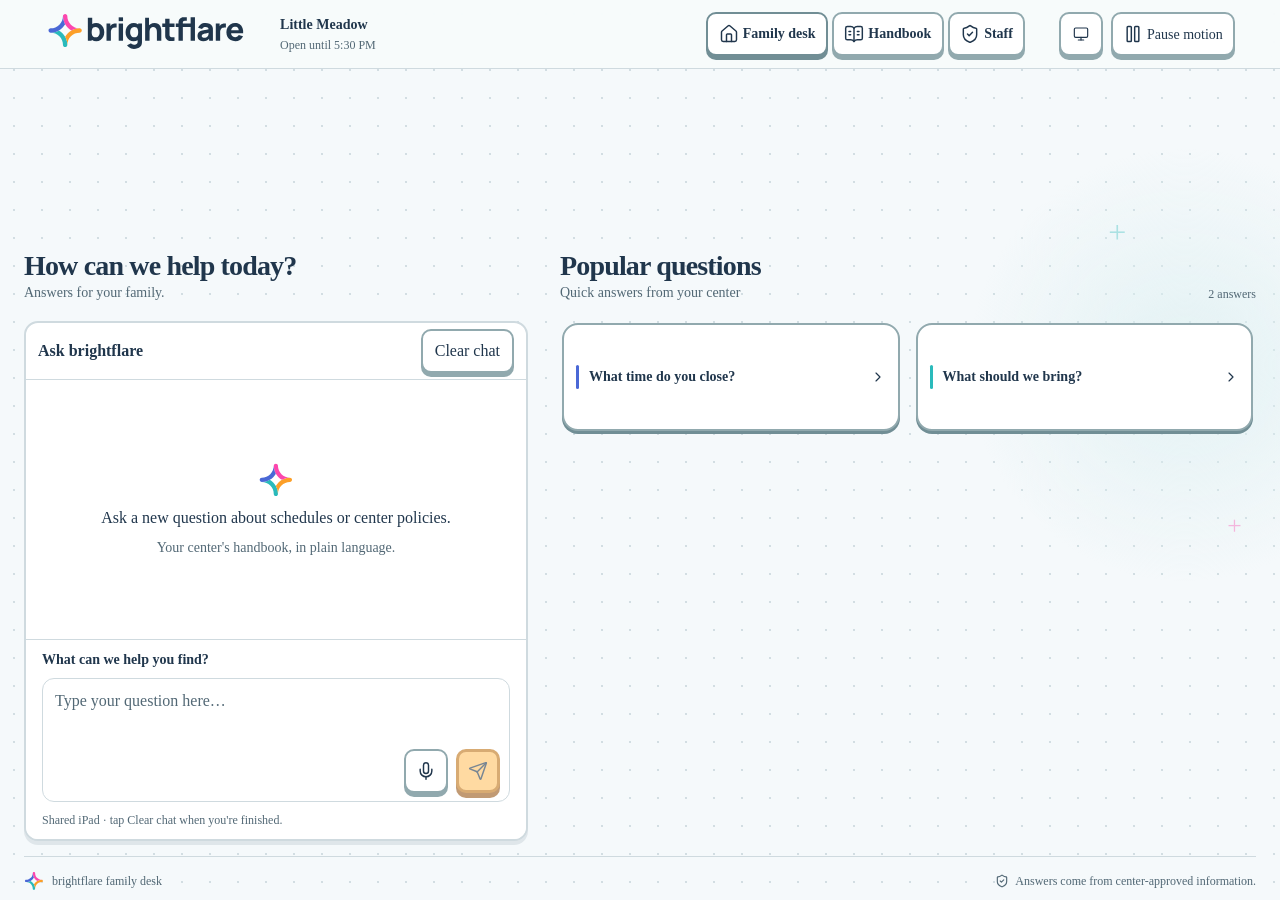
Test: parent front desk › adds speech transcripts to the question without submitting them
Expected: the button "What time do you close?" is shown, top-left (564, 325), bottom-right (898, 429)
Type "How do I" into the text box labelled "What can we help you find?" at point(276, 740), box top-left (42, 678), bottom-right (510, 802)
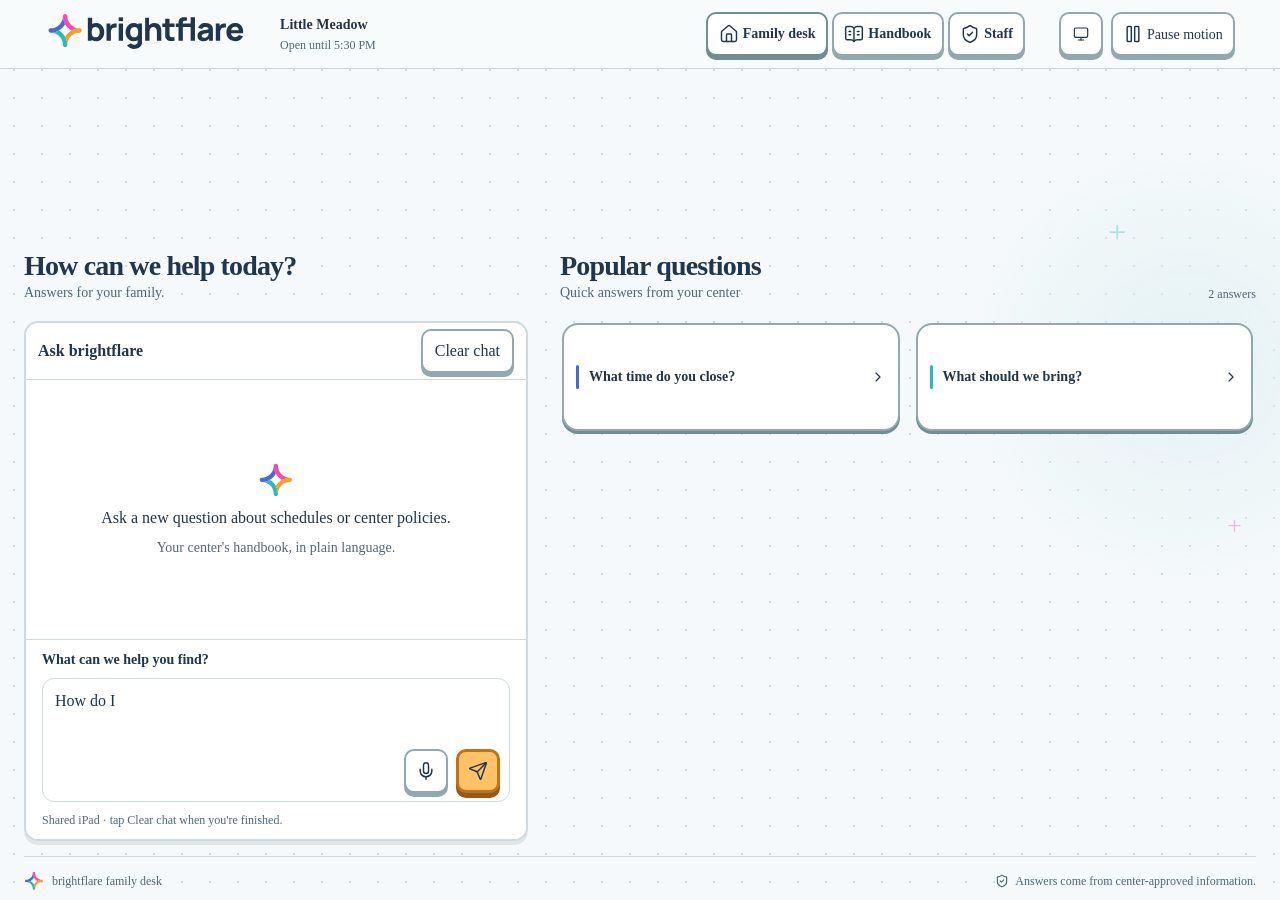
Click the button named "Start voice input" at point(426, 771), box top-left (404, 749), bottom-right (448, 793)
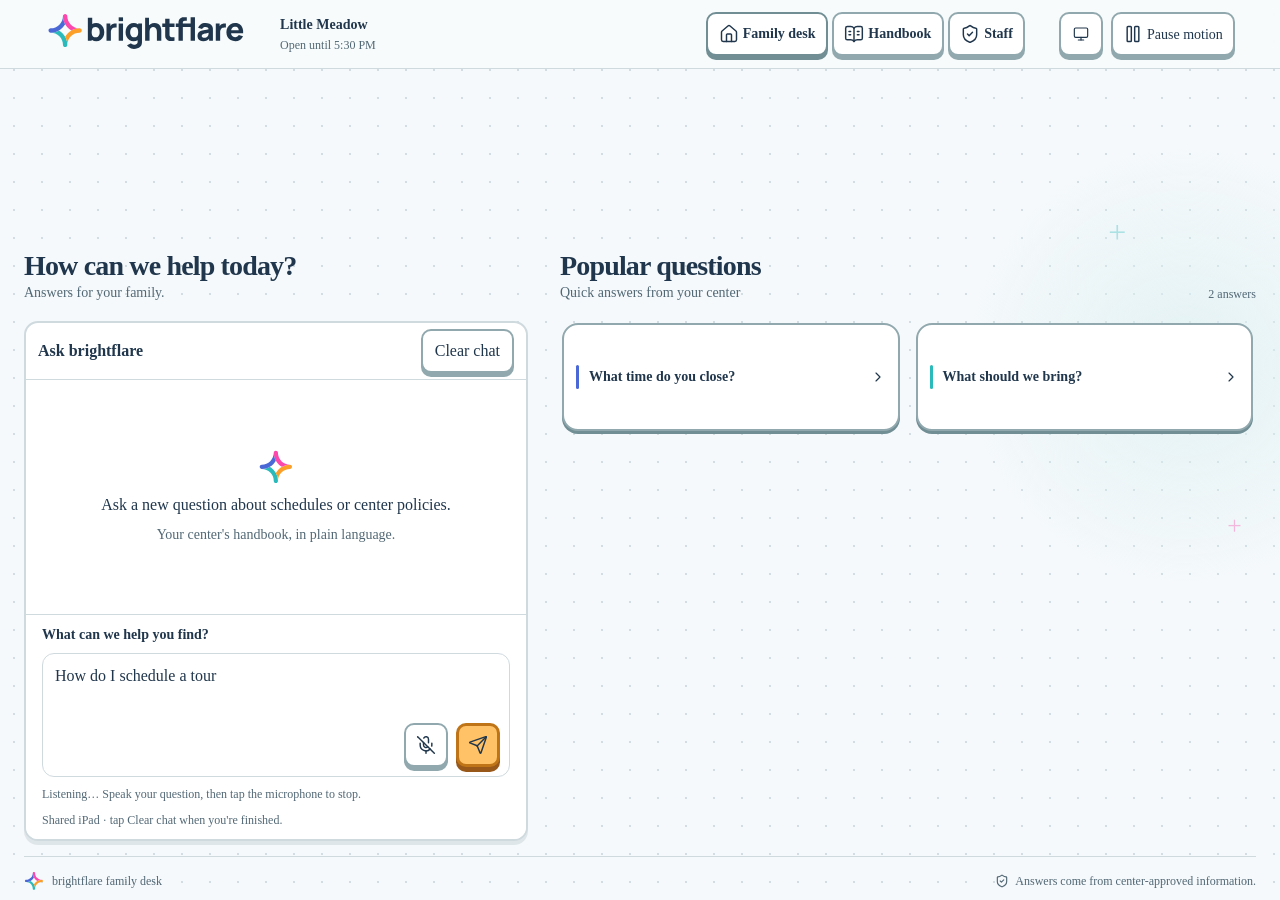
Expected: the text box labelled "What can we help you find?" holds "How do I schedule a tour", top-left (42, 653), bottom-right (510, 777)
Click the button named "Stop voice input" at point(426, 745), box top-left (404, 723), bottom-right (448, 767)
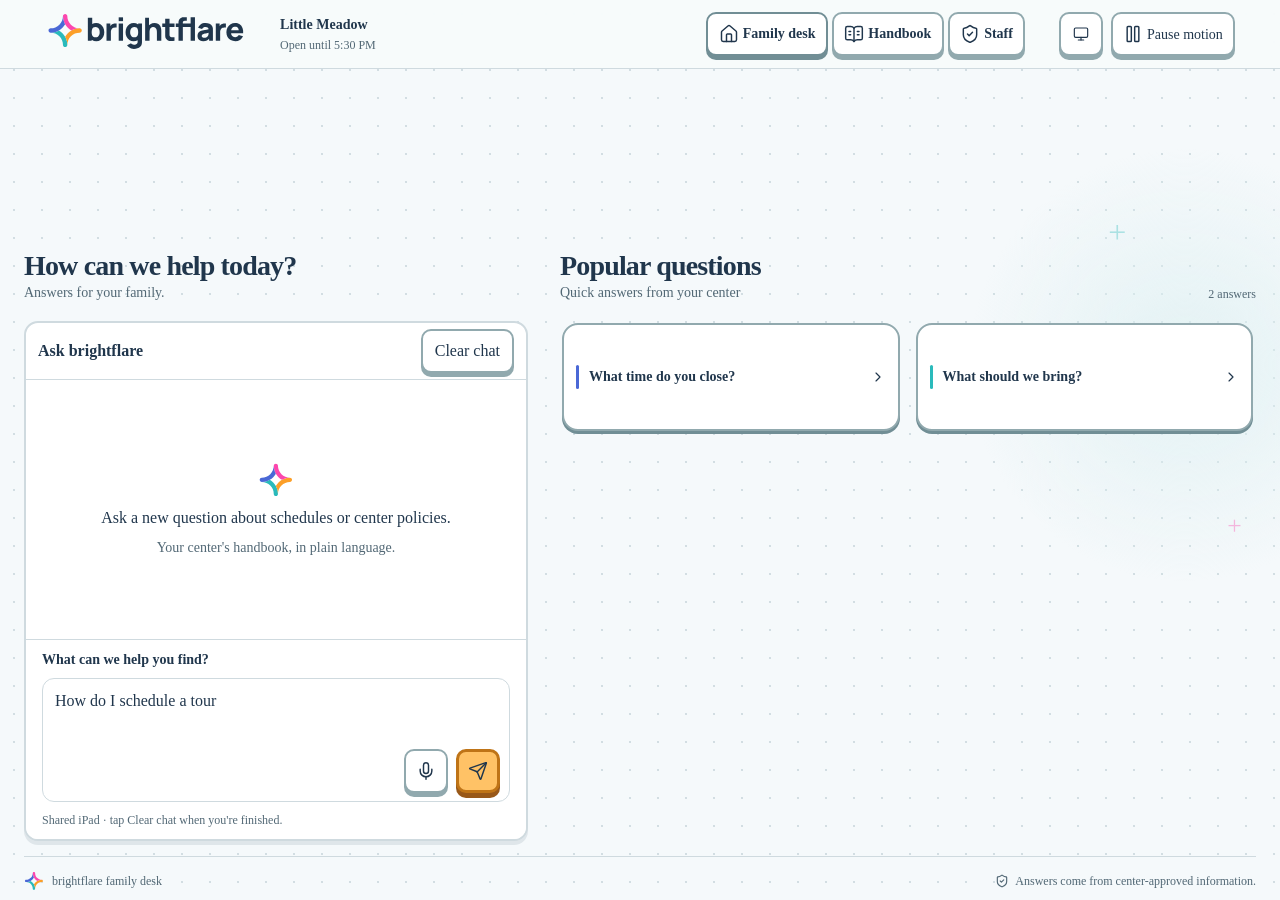
Expected: the button named "Start voice input" is shown, top-left (404, 749), bottom-right (448, 793)
